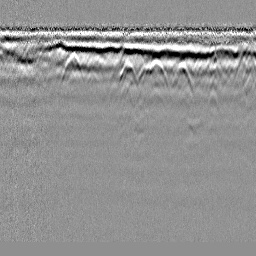cavity: (118, 57, 138, 84)
